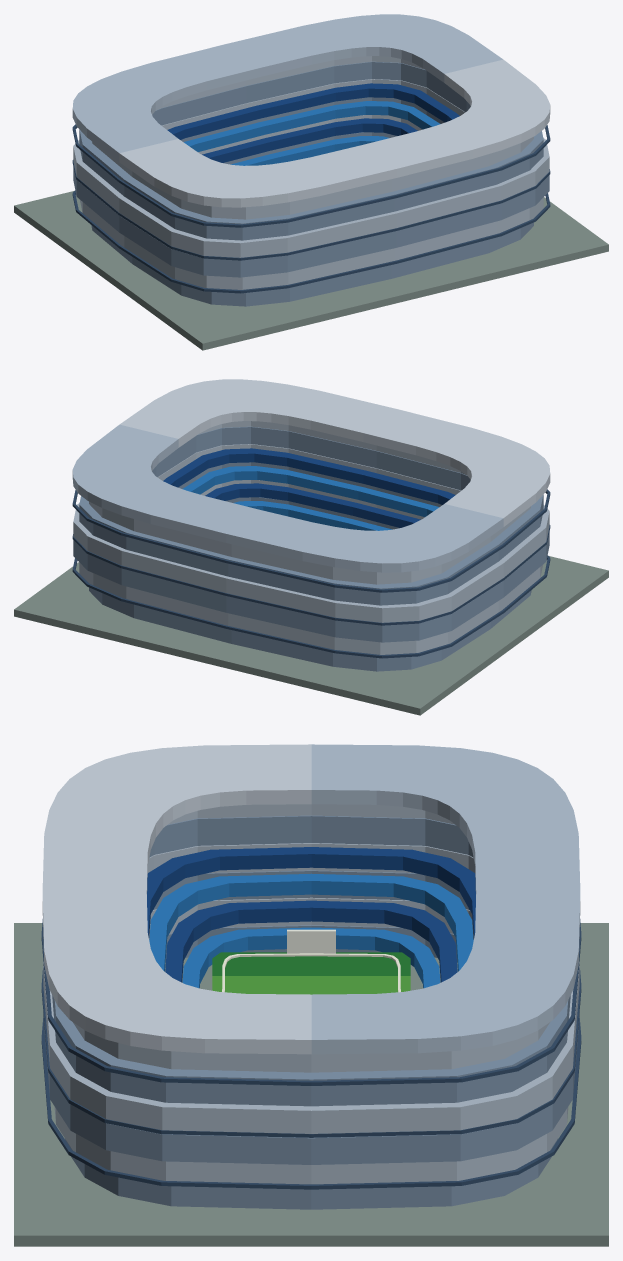
Rendered from santiago-bernabeu.glb.
The picture shows the model from 3 angles, top to bottom: view 1: azimuth 30°, elevation 25°; view 2: azimuth 150°, elevation 25°; view 3: azimuth 270°, elevation 25°; orthographic projection. The views are drawn at different scales.
Visible parts, largest first — view 1: shell_A5B1B5, shell_B6C0C2, roof_north_CED5D3, base_A6ABA0, roof_south_C2CECD, seating_596B83, shell_657C86, seating_849BB4; view 2: shell_A5B1B5, shell_B6C0C2, roof_south_C2CECD, base_A6ABA0, roof_north_CED5D3, seating_596B83, shell_657C86, seating_849BB4; view 3: shell_A5B1B5, roof_north_CED5D3, roof_south_C2CECD, base_A6ABA0, shell_B6C0C2, seating_596B83, seating_849BB4, shell_657C86, pitch_1, pitch_2, goals_DEE0CB, pitch_markings_E7E6CB.
Boxes of the visible parts, x1=… form: shell_A5B1B5: x1=73, y1=61, x2=549, y2=306; shell_B6C0C2: x1=73, y1=56, x2=549, y2=289; roof_north_CED5D3: x1=119, y1=59, x2=550, y2=207; base_A6ABA0: x1=14, y1=191, x2=608, y2=350; roof_south_C2CECD: x1=72, y1=14, x2=502, y2=161; seating_596B83: x1=167, y1=83, x2=459, y2=162; shell_657C86: x1=72, y1=124, x2=550, y2=293; seating_849BB4: x1=184, y1=101, x2=440, y2=165; shell_A5B1B5: x1=73, y1=426, x2=549, y2=671; shell_B6C0C2: x1=73, y1=421, x2=549, y2=654; roof_south_C2CECD: x1=72, y1=424, x2=503, y2=572; base_A6ABA0: x1=14, y1=556, x2=608, y2=715; roof_north_CED5D3: x1=120, y1=379, x2=550, y2=526; seating_596B83: x1=163, y1=448, x2=455, y2=527; shell_657C86: x1=72, y1=489, x2=550, y2=658; seating_849BB4: x1=182, y1=466, x2=438, y2=530; shell_A5B1B5: x1=43, y1=815, x2=579, y2=1209; roof_north_CED5D3: x1=42, y1=744, x2=311, y2=1054; roof_south_C2CECD: x1=311, y1=744, x2=580, y2=1054; base_A6ABA0: x1=14, y1=923, x2=608, y2=1246; shell_B6C0C2: x1=43, y1=804, x2=579, y2=1184; seating_596B83: x1=147, y1=847, x2=475, y2=982; seating_849BB4: x1=149, y1=873, x2=473, y2=988; shell_657C86: x1=41, y1=919, x2=581, y2=1189; pitch_1: x1=212, y1=952, x2=410, y2=975; pitch_2: x1=212, y1=976, x2=410, y2=994; goals_DEE0CB: x1=287, y1=929, x2=335, y2=953; pitch_markings_E7E6CB: x1=222, y1=953, x2=400, y2=992.
Size of the model in its own units: 1 by 0.2955 by 0.8045.
